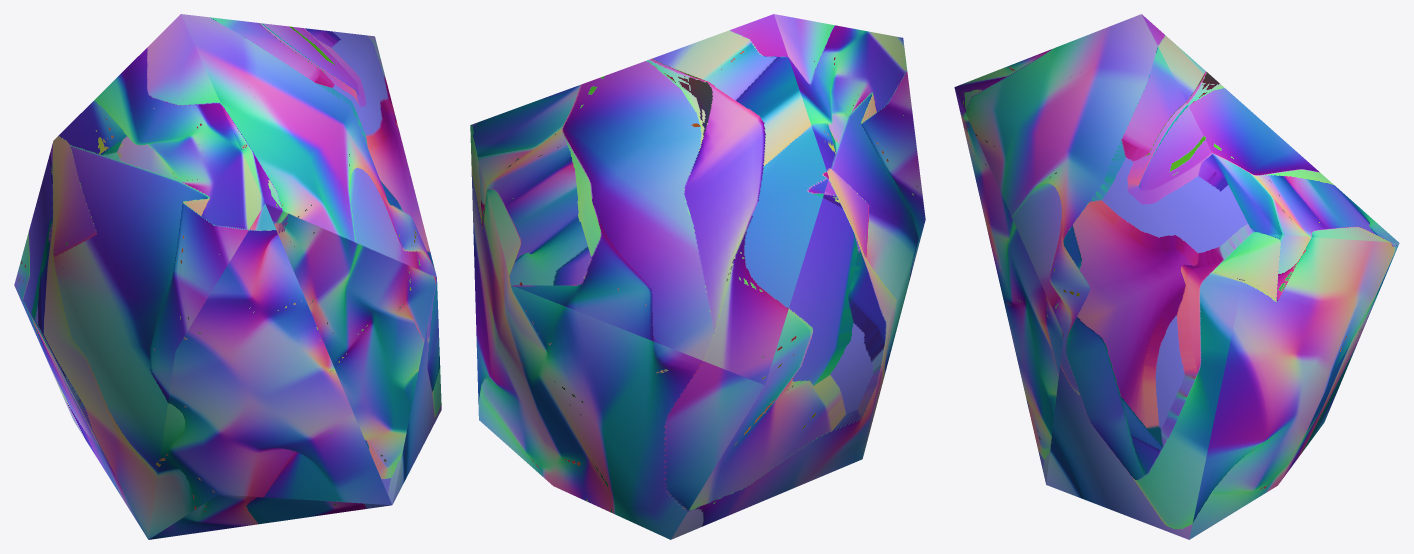
The model's file is paper.fbx.
The picture shows the model from 3 angles, left to right: view 1: azimuth 30°, elevation 25°; view 2: azimuth 150°, elevation 25°; view 3: azimuth 270°, elevation 25°; orthographic projection. The views are drawn at different scales.
Visible parts, largest first — view 1: paper_lp2; view 2: paper_lp2; view 3: paper_lp2.
Boxes of the visible parts, box(x1,y1,x2,y2) form: paper_lp2: box(14, 14, 441, 539); paper_lp2: box(470, 14, 925, 539); paper_lp2: box(954, 14, 1399, 539).
Bounding box in the file's own units: 0.1018 × 0.1129 × 0.1117.
